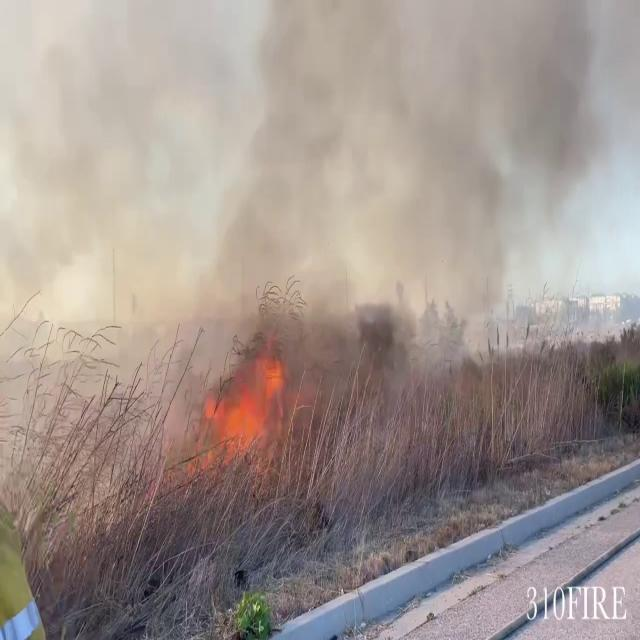Fire: (202, 341, 290, 466)
Smoke: (154, 0, 632, 369)
